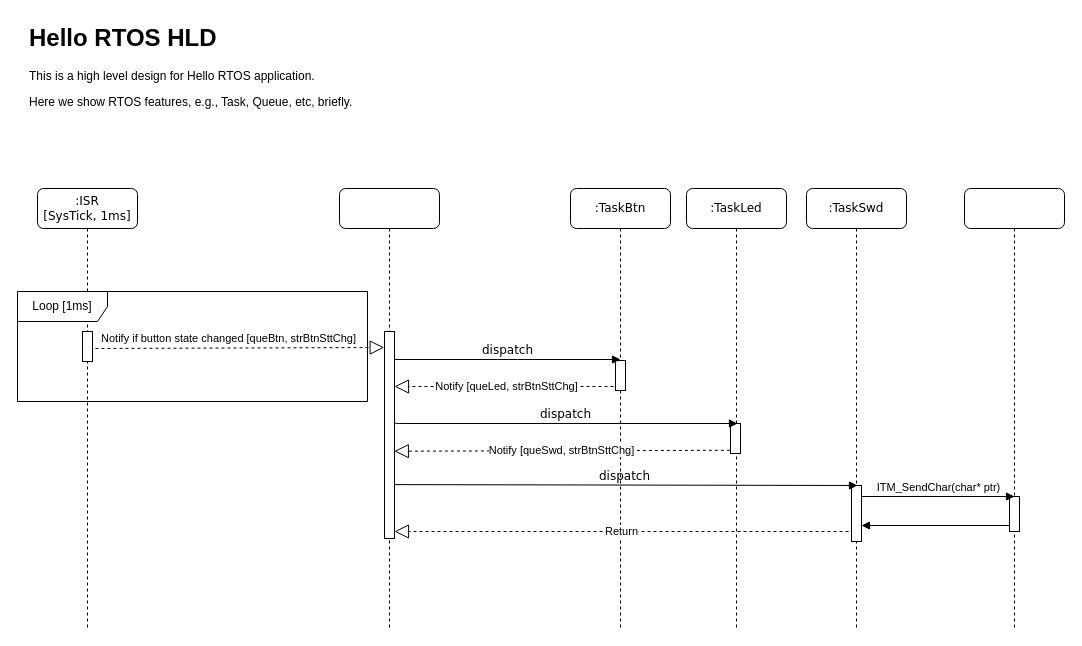
The diagram is 1082 pixels wide and 646 high, and some of its shapes have lost their labels. The shapes that lost their labels are listed below. From the top down, each one's box as (x1, y1, x2, y2) in pixels, then its label:
(338, 188, 440, 628): :FreeRTOS
(964, 188, 1064, 628): :HAL [SWV]
